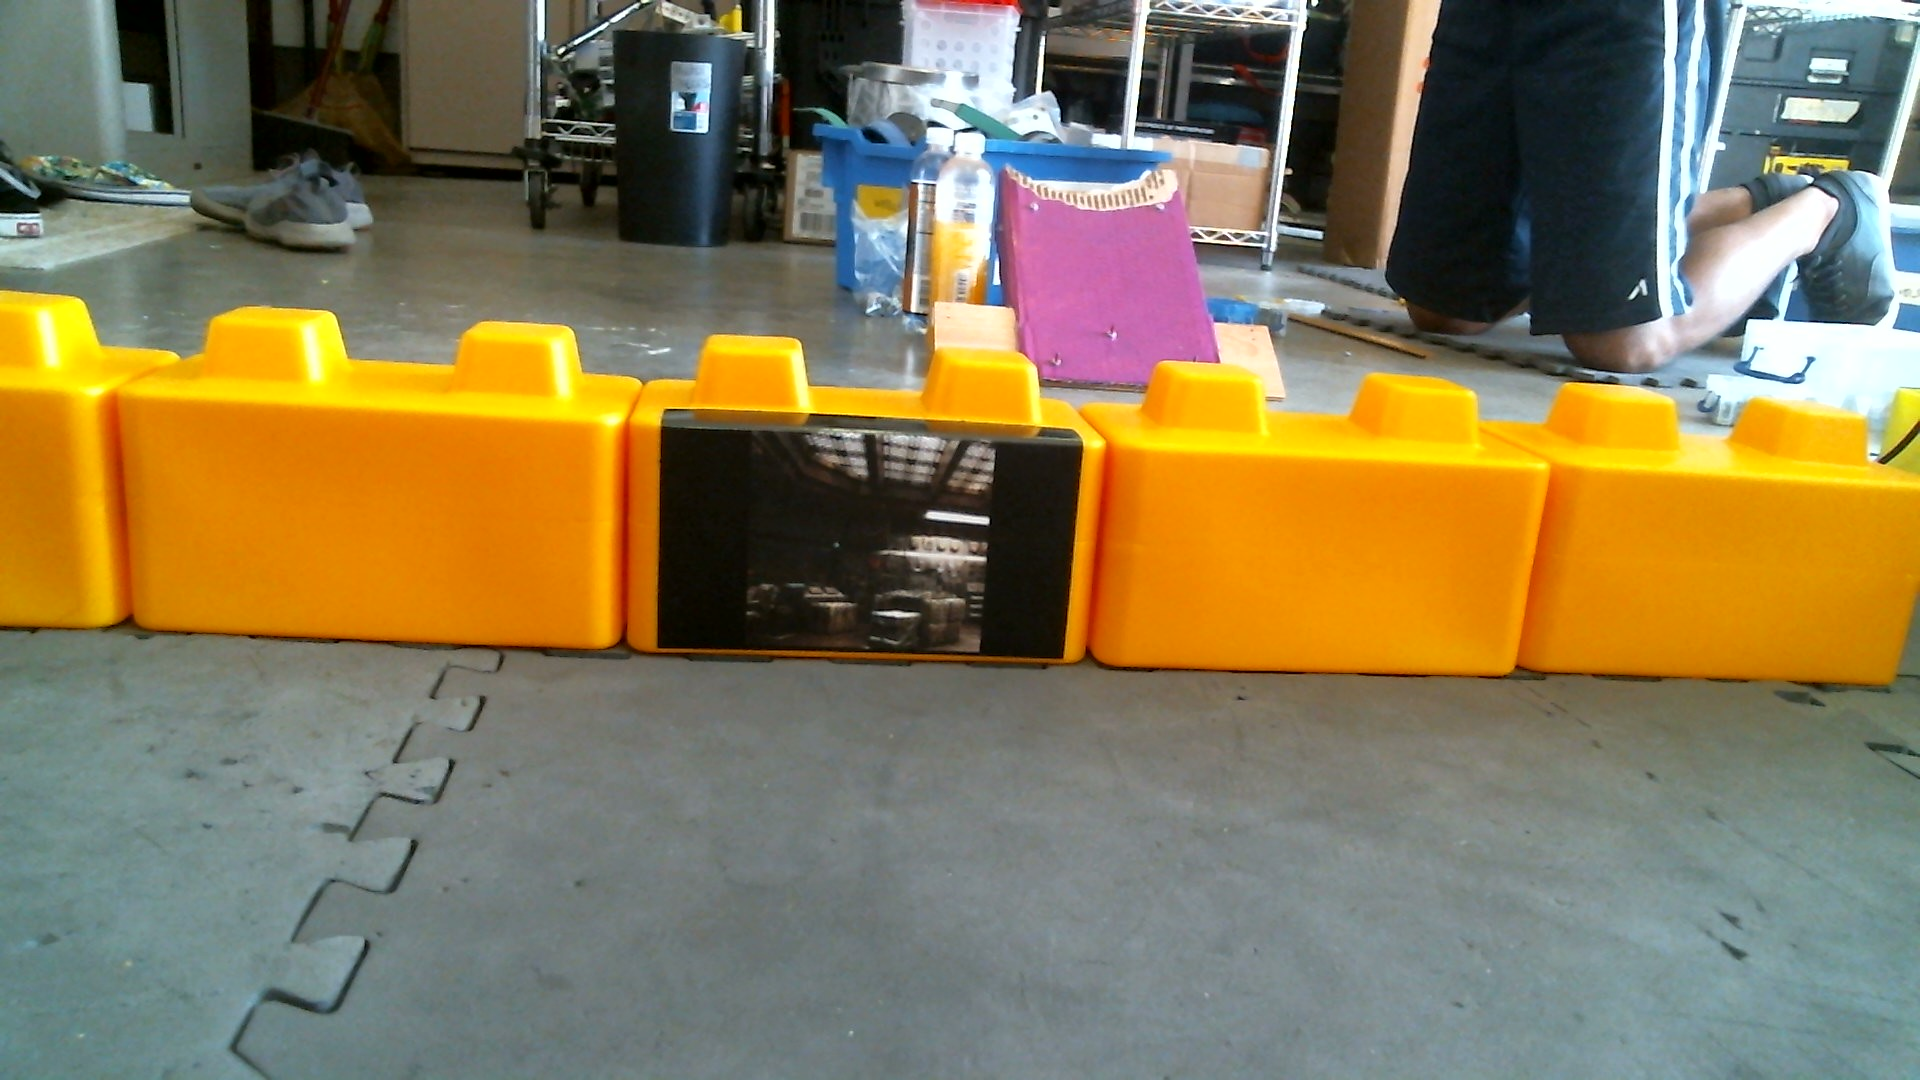skystone: (625, 336, 1095, 669)
stone: (123, 301, 622, 654), (1092, 355, 1545, 679), (1511, 376, 1920, 702), (1, 289, 132, 626)
